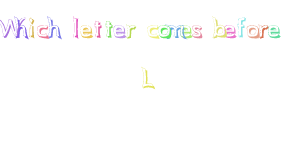L: (127, 63, 161, 92)
W: (1, 16, 19, 43)
b: (210, 14, 226, 43)
c: (146, 21, 160, 42), (37, 22, 49, 43)
e: (267, 21, 285, 43), (223, 19, 237, 43), (112, 21, 127, 41), (80, 22, 94, 41)
f: (236, 14, 247, 42)
h: (47, 16, 66, 41), (16, 15, 28, 42)
i: (29, 17, 38, 41)
l: (69, 18, 82, 41)
m: (169, 21, 185, 43)
o: (246, 21, 260, 41), (158, 21, 171, 41)
r: (126, 20, 137, 41), (259, 21, 269, 43)
s: (191, 22, 205, 42)
t: (103, 18, 114, 41), (94, 18, 104, 40)
w: (182, 22, 193, 43)
